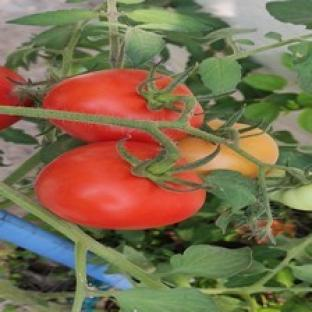Tomato: (35, 141, 206, 229), (44, 69, 181, 121), (195, 145, 259, 178), (0, 67, 32, 105), (269, 184, 311, 211), (271, 219, 296, 236)
